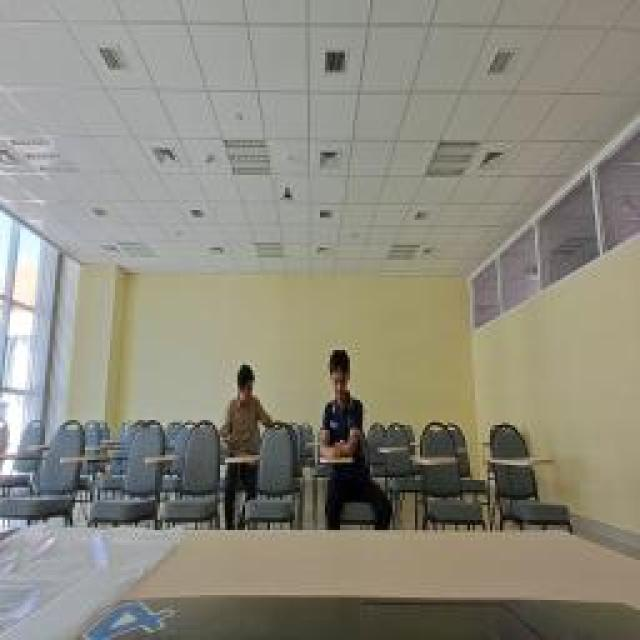study: (320, 348, 368, 458), (220, 360, 262, 460)
